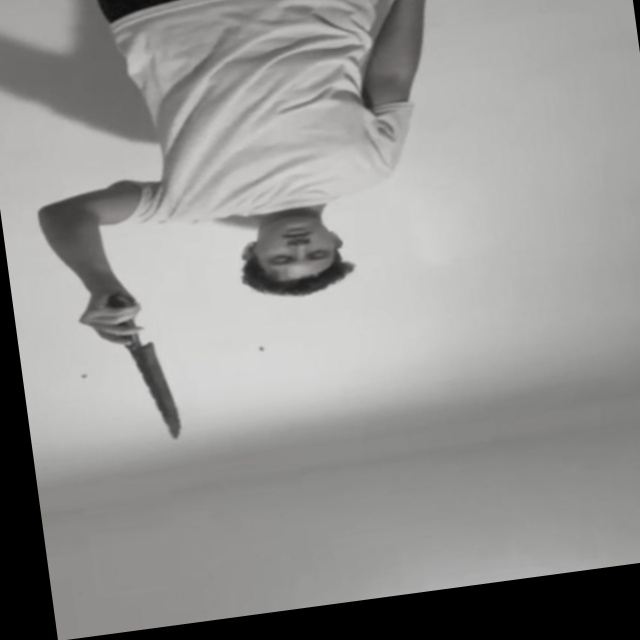Sharp-Object: (130, 342, 186, 444)
